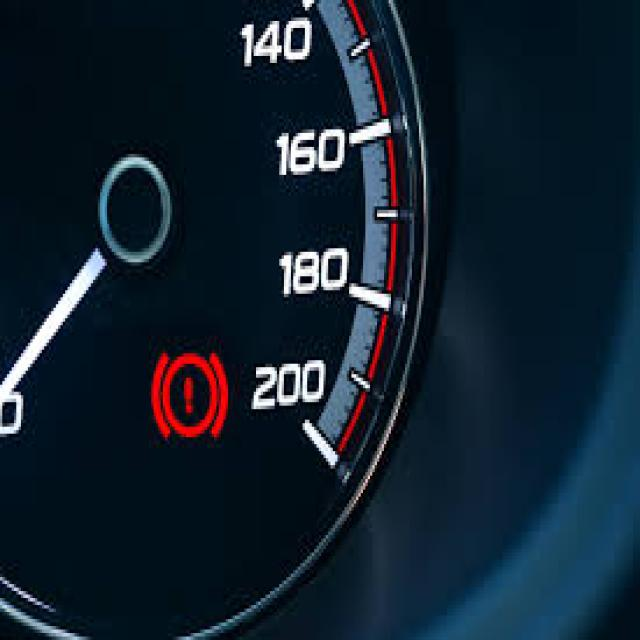kontrolka: (142, 340, 240, 452)
